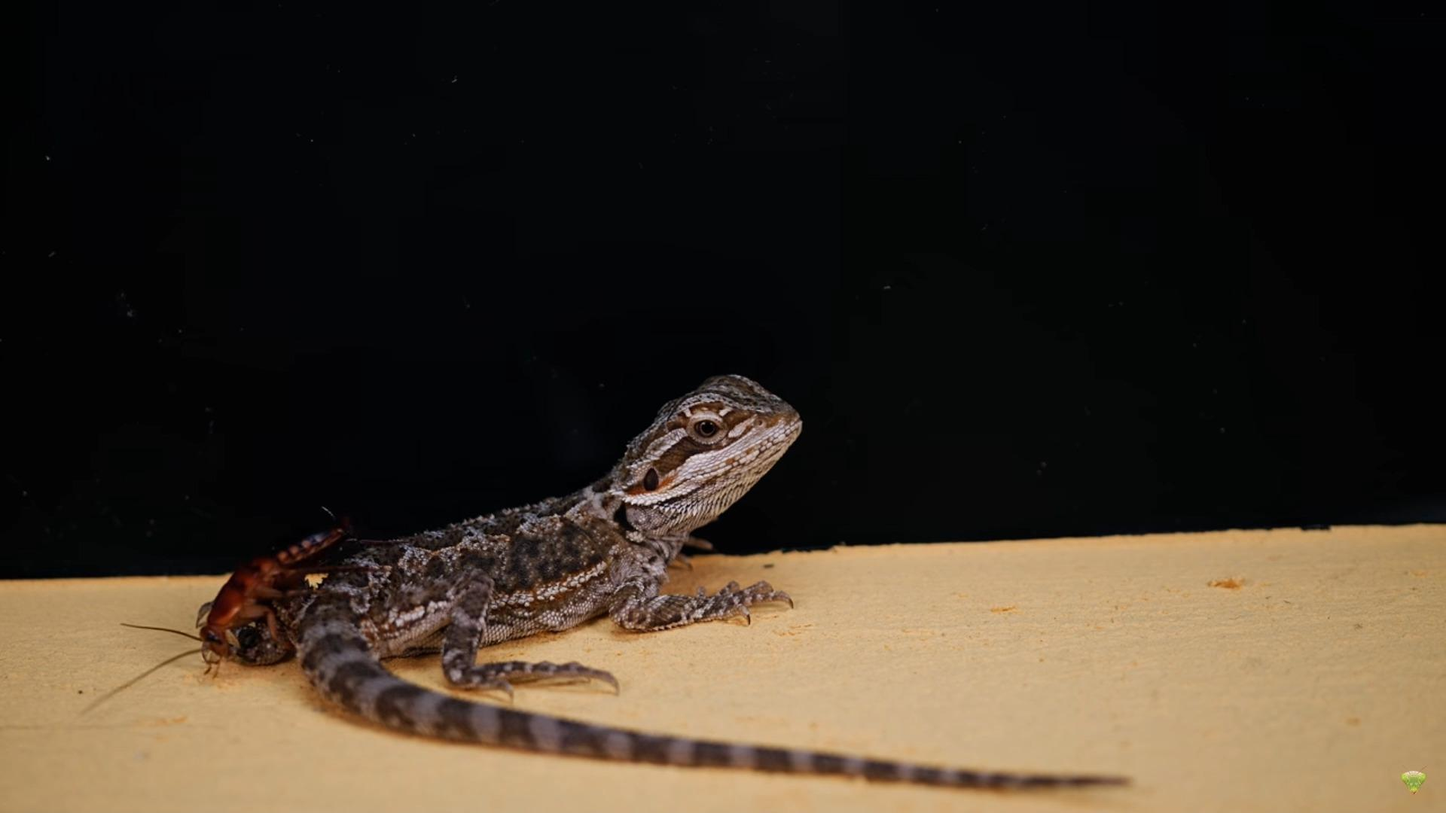cockroach: (186, 513, 349, 658)
lizard: (161, 365, 921, 789)
